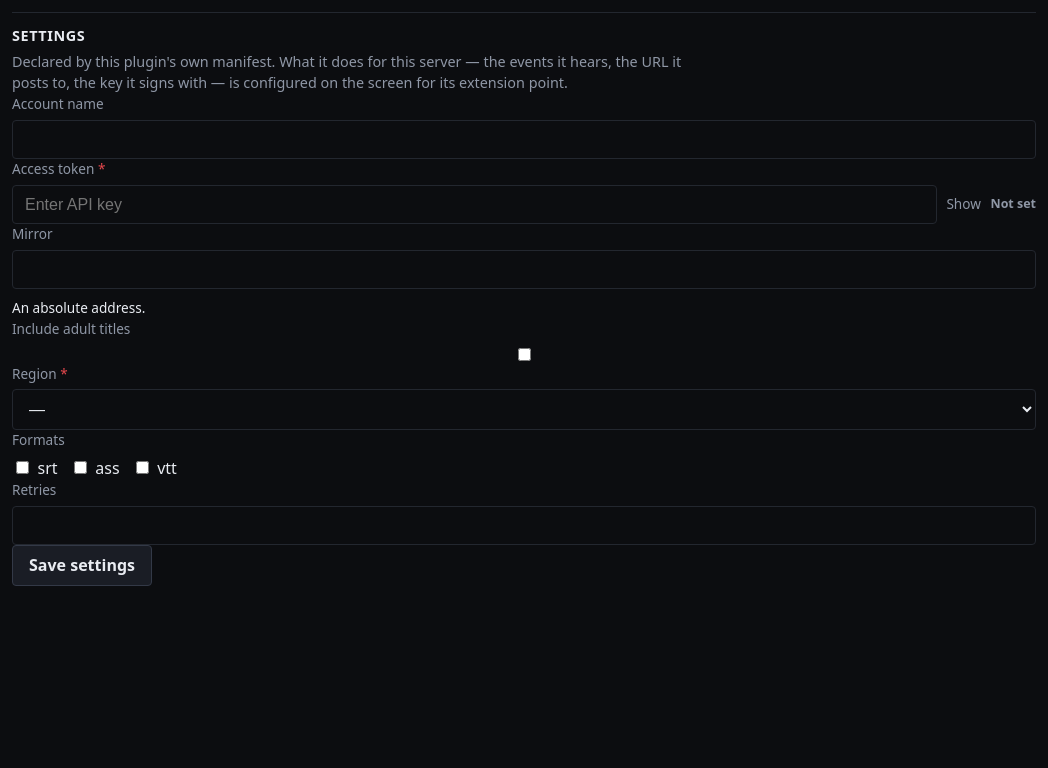
Test: a plugin's manifest-declared settings form › puts the server's refusal under the control that caused it
Click the button with test id "plugin-settings-save-example-source": [82, 565] box [12,545,152,586]
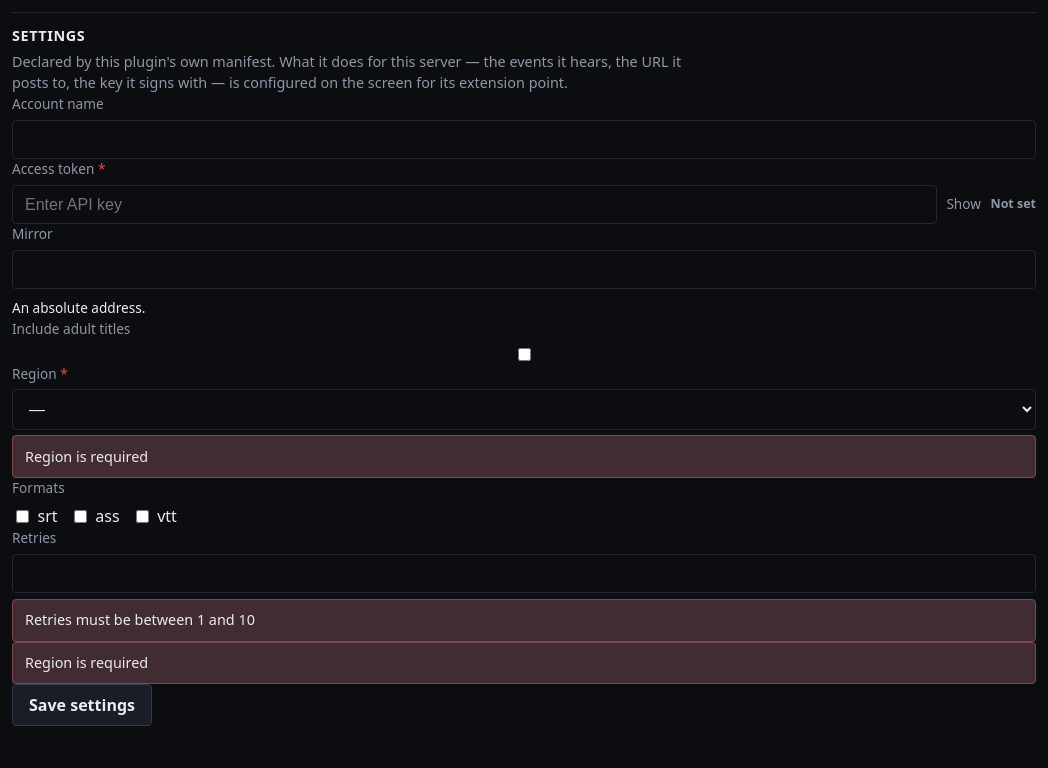
Expected: the message with test id "plugin-field-example-source-region-error" reads "Region is required", [25,447,148,466]
Expected: the message with test id "plugin-field-example-source-retries-error" reads "Retries must be between 1 and 10", [25,610,255,629]
Expected: the message with test id "plugin-settings-error-example-source" reads "Region is required", [25,653,148,672]
